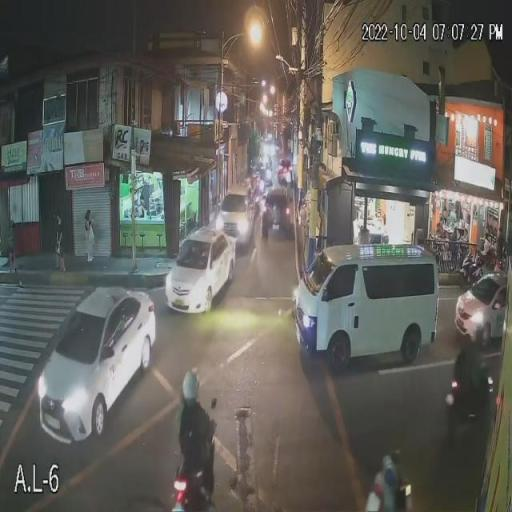helmet: (180, 370, 201, 408)
motorcycle: (444, 376, 496, 430), (169, 449, 214, 509)
rider: (181, 386, 209, 476), (456, 331, 484, 386)
